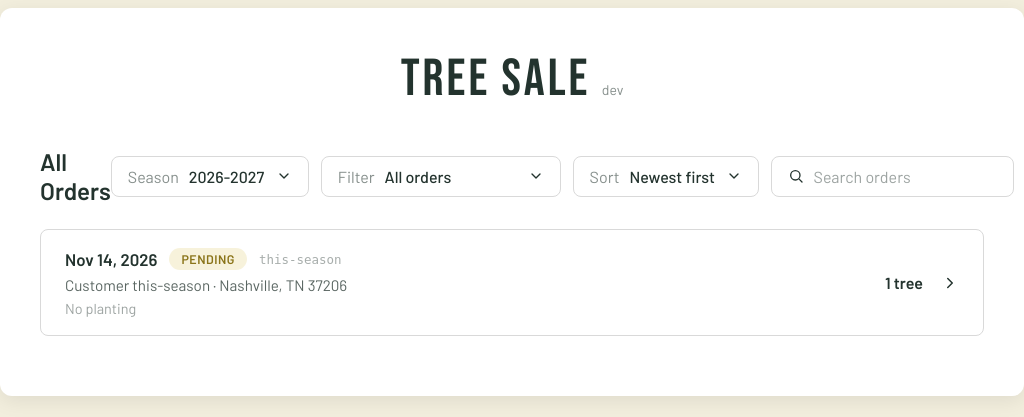
Test: AllOrders season filter › narrows the list to the chosen season
Check: the text "this-season" is shown, box [259, 252, 342, 266]
Step 1. Select "2025-2026" in the dropdown labelled "Season" → (240, 176), box [189, 166, 292, 186]
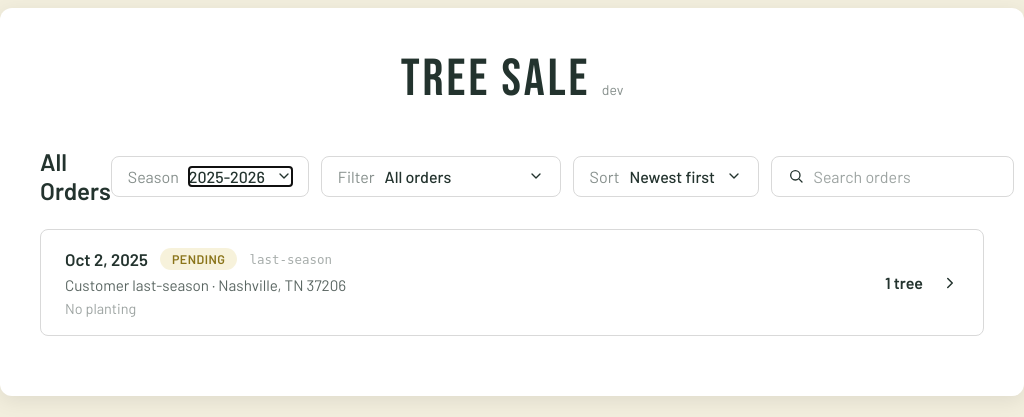
Check: the text "last-season" is shown, box [249, 252, 332, 266]
Check: the link "this-season" is gone
